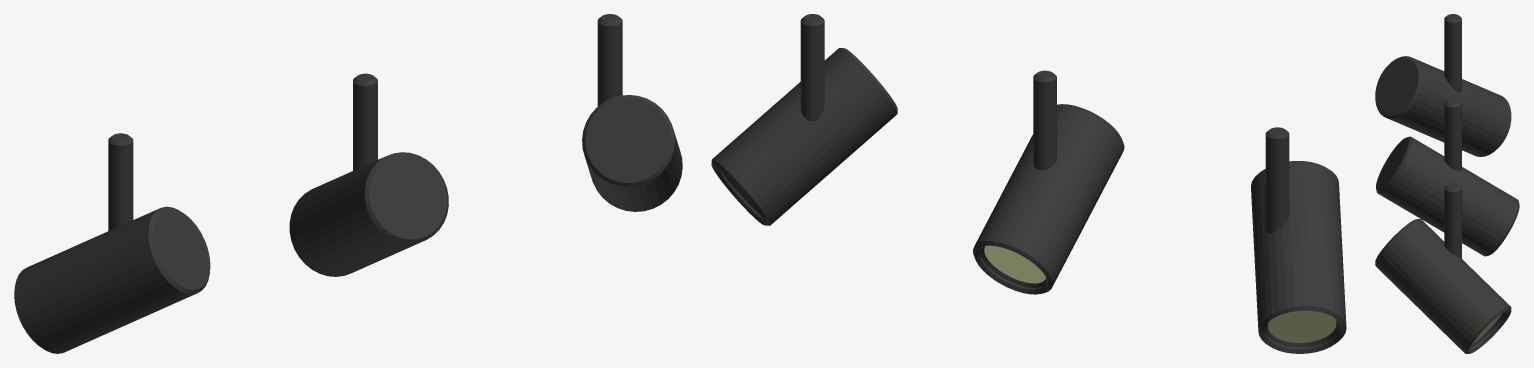
The model's file is SM_Build_Deckenstrahler_Schiene.fbx.
3 views of the same model, side by side, from view 1: azimuth 30°, elevation 25°; view 2: azimuth 150°, elevation 25°; view 3: azimuth 270°, elevation 25° (orthographic). The views are drawn at different scales.
Parts seen in each view (by area): view 1: Deckenstrahler Schiene; view 2: Deckenstrahler Schiene; view 3: Deckenstrahler Schiene.
Part boxes in pixels (x1=…): Deckenstrahler Schiene: x1=14, y1=14, x2=682, y2=353; Deckenstrahler Schiene: x1=711, y1=14, x2=1346, y2=353; Deckenstrahler Schiene: x1=1375, y1=14, x2=1519, y2=353.
Size of the model in its own units: 0.8225 by 0.2537 by 0.219.
